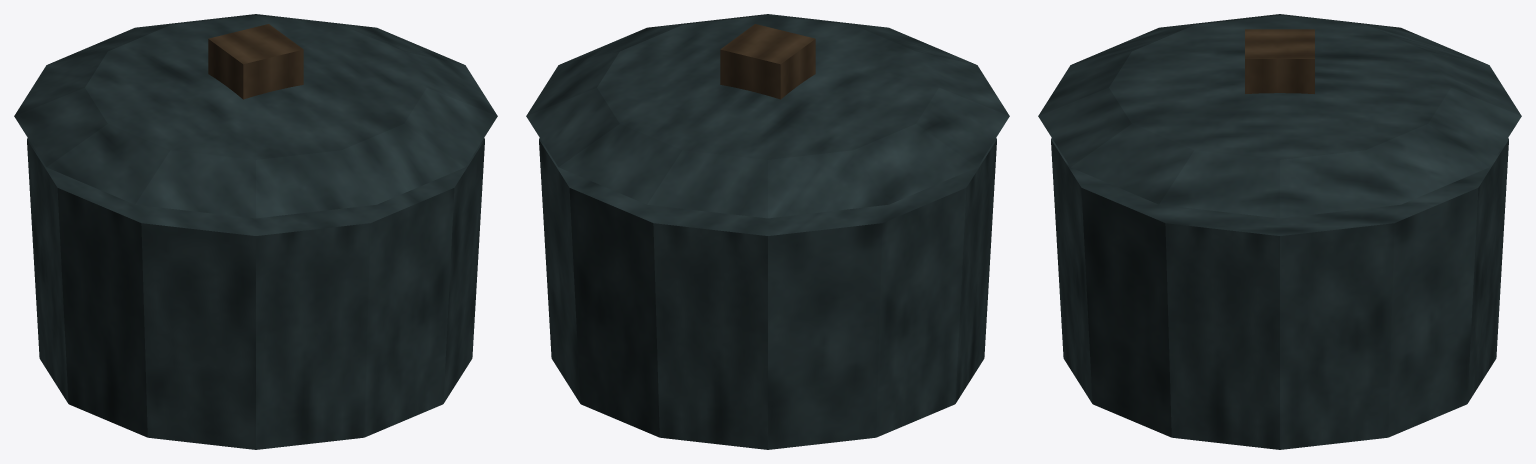
File: Cooking_Pot.glb
The picture shows the model from 3 angles, left to right: view 1: azimuth 30°, elevation 25°; view 2: azimuth 150°, elevation 25°; view 3: azimuth 270°, elevation 25°; orthographic projection.
Parts seen in each view (by area): view 1: Cooking_Pot; view 2: Cooking_Pot; view 3: Cooking_Pot.
Boxes of the visible parts, bbox=[...] form: Cooking_Pot: bbox=[14, 14, 497, 449]; Cooking_Pot: bbox=[526, 14, 1009, 449]; Cooking_Pot: bbox=[1038, 14, 1521, 449].
Bounding box in the file's own units: 0.38 × 0.2725 × 0.38.
2 materials, 2 textured.
